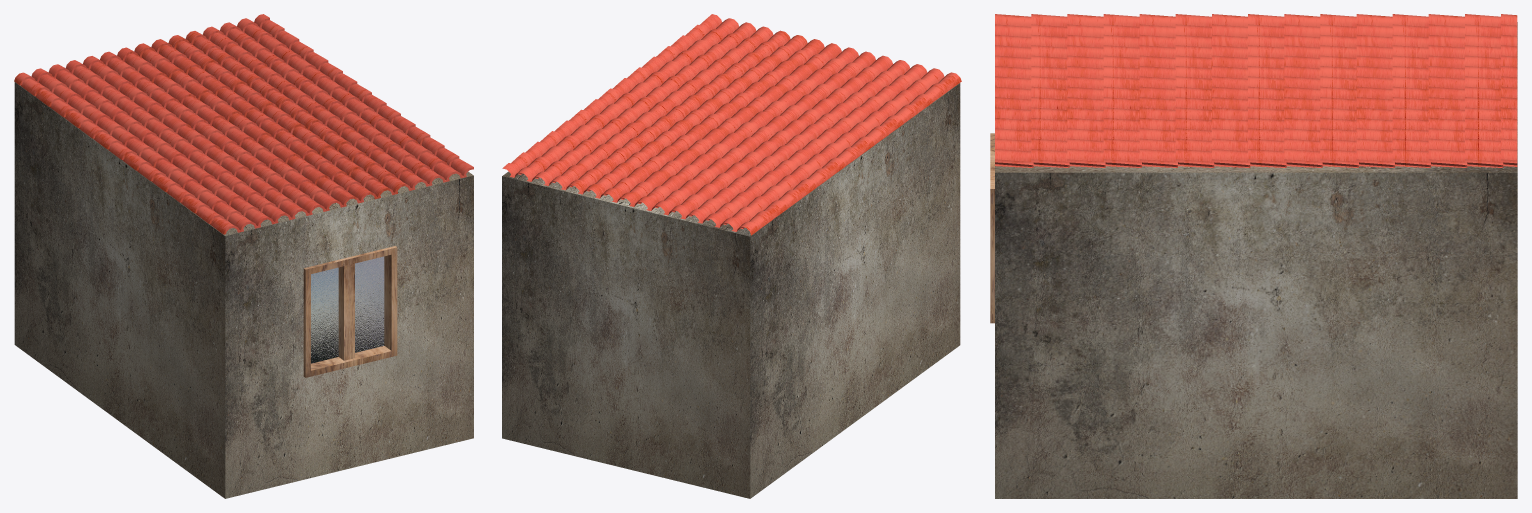
Rendered from First Prefab.fbx.
The picture shows the model from 3 angles, left to right: view 1: azimuth 30°, elevation 25°; view 2: azimuth 150°, elevation 25°; view 3: azimuth 270°, elevation 25°; orthographic projection. The views are drawn at different scales.
Visible parts, largest first — view 1: House, SimpleRoofTiles_Plane_002, Window Frame, Window; view 2: House, SimpleRoofTiles_Plane_002; view 3: House, SimpleRoofTiles_Plane_002, Window Frame.
Boxes of the visible parts, left/top/right/bottom form: House: left=14, top=82, right=473, bottom=498; SimpleRoofTiles_Plane_002: left=14, top=14, right=473, bottom=234; Window Frame: left=303, top=246, right=397, bottom=377; Window: left=311, top=256, right=384, bottom=363; House: left=502, top=83, right=960, bottom=498; SimpleRoofTiles_Plane_002: left=502, top=14, right=961, bottom=235; House: left=995, top=22, right=1517, bottom=498; SimpleRoofTiles_Plane_002: left=995, top=14, right=1517, bottom=167; Window Frame: left=990, top=133, right=994, bottom=323.
Bounding box in the file's own units: 327 × 338 × 480.
4 materials, 4 textured.
